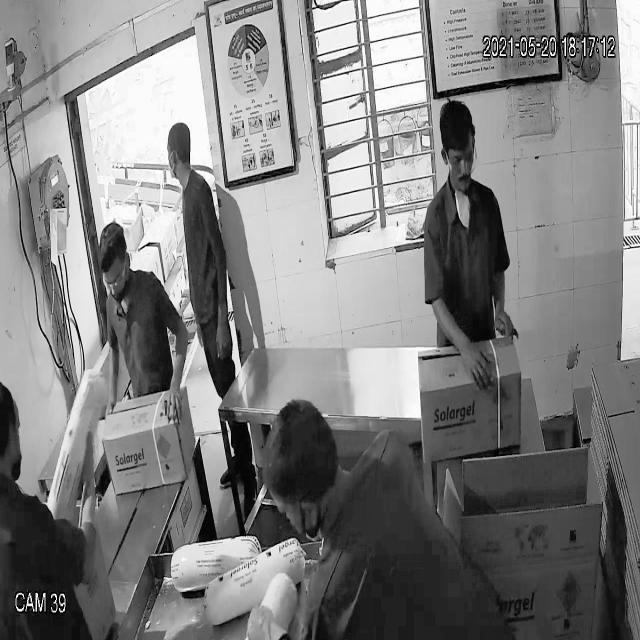glasses: (440, 140, 480, 180), (102, 262, 132, 295)
